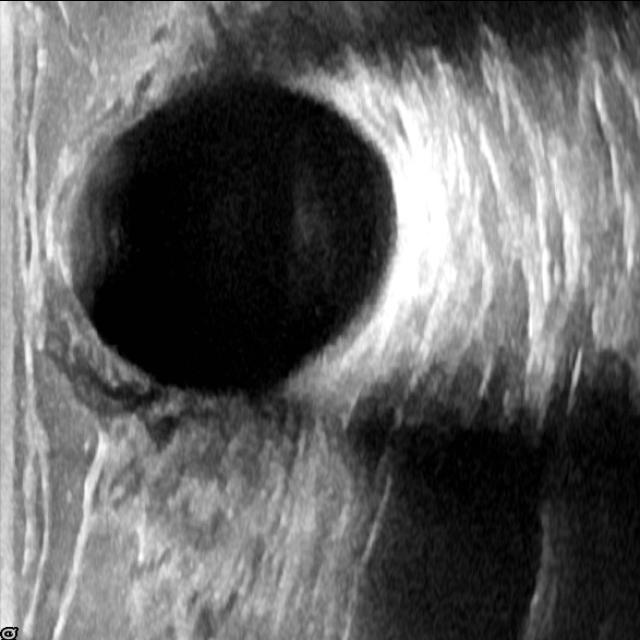Benign: (60, 81, 396, 382)
